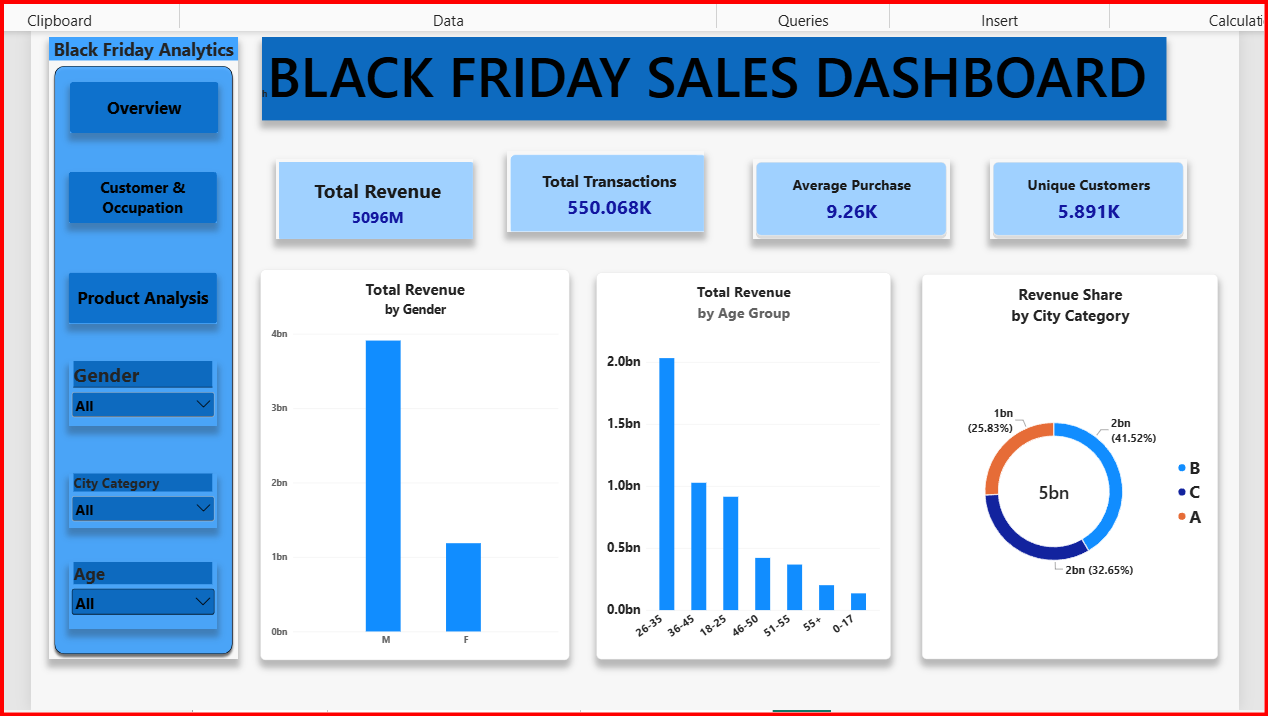

The page's visual inventory and layout, read from the dashboard file:
{"tool":"powerbi","page":{"name":"overview","canvas":[1920,1080],"ordinal":0},"visuals":[{"type":"shape","title":"Black Friday Analytics","box":[28.9,8.7,300.6,990.2],"z":0,"group":"g2"},{"type":"group","id":"g1","title":"Group 1","box":[390,190.7,1450.1,141.5],"z":0},{"type":"cardVisual","fields":{"Data":["Sum(Black_friday_sales_dataset.Purchase)"]},"box":[390,202.1,314.9,128.8],"z":0,"group":"g1"},{"type":"actionButton","box":[62,81.4,236.2,81.1],"z":1000,"group":"g2"},{"type":"cardVisual","fields":{"Data":["CountNonNull(Black_friday_sales_dataset.User_ID)"]},"box":[757.3,190.7,314.9,128.8],"z":1000,"group":"g1"},{"type":"clusteredColumnChart","title":"Total Revenue","fields":{"Category":["Black_friday_sales_dataset.Gender"],"Y":["Sum(Black_friday_sales_dataset.Purchase)"]},"box":[364,378.4,491.1,621.1],"z":1000},{"type":"cardVisual","fields":{"Data":["Avg(Black_friday_sales_dataset.Purchase)"]},"box":[1149,202.1,314.9,128.8],"z":2000,"group":"g1"},{"type":"actionButton","box":[60.7,384.2,236.2,81.1],"z":2000,"group":"g2"},{"type":"clusteredColumnChart","title":"Total Revenue","fields":{"Category":["Black_friday_sales_dataset.Age"],"Y":["Sum(Black_friday_sales_dataset.Purchase)"]},"box":[898.4,384.2,468,615.3],"z":2000},{"type":"cardVisual","fields":{"Data":["Count(Black_friday_sales_dataset.User_ID)"]},"box":[1525.8,202.1,314.9,128.8],"z":3000,"group":"g1"},{"type":"actionButton","box":[60.7,222.5,236.2,81.1],"z":3000,"group":"g2"},{"type":"donutChart","title":"Revenue Share","fields":{"Category":["Black_friday_sales_dataset.City_Category"],"Y":["Sum(Black_friday_sales_dataset.Purchase)"]},"box":[1418.4,387.1,470.9,612.4],"z":3000},{"type":"group","id":"g2","title":"Group 2","box":[28.9,8.7,300.6,990.2],"z":4000},{"type":"slicer","fields":{"Values":["Black_friday_sales_dataset.Gender"]},"box":[60.7,522.9,236.9,104],"z":4000,"group":"g2"},{"type":"textbox","box":[366.9,8.7,1438.6,132.9],"z":5000},{"type":"slicer","fields":{"Values":["Black_friday_sales_dataset.City_Category"]},"box":[60.7,702,236.9,86.7],"z":5000,"group":"g2"},{"type":"slicer","fields":{"Values":["Black_friday_sales_dataset.Age"]},"box":[60.7,843.5,236.9,106.9],"z":6000,"group":"g2"}]}

Visuals, with their boxes on the page's 1920x1080 design canvas (x1, y1, x2, y2). These are canvas units, not pixel positions in the 1268x716 screenshot, which may show the page scaled, cropped or inside an application window:
"Black Friday Analytics" shape: 29:9:330:999
"Group 1" group: 390:191:1840:332
cardVisual - Sum(Black_friday_sales_dataset.Purchase): 390:202:705:331
actionButton: 62:81:298:162
cardVisual - CountNonNull(Black_friday_sales_dataset.User_ID): 757:191:1072:320
"Total Revenue" clusteredColumnChart: 364:378:855:1000
cardVisual - Avg(Black_friday_sales_dataset.Purchase): 1149:202:1464:331
actionButton: 61:384:297:465
"Total Revenue" clusteredColumnChart: 898:384:1366:1000
cardVisual - Count(Black_friday_sales_dataset.User_ID): 1526:202:1841:331
actionButton: 61:222:297:304
"Revenue Share" donutChart: 1418:387:1889:1000
"Group 2" group: 29:9:330:999
slicer - Black_friday_sales_dataset.Gender: 61:523:298:627
textbox: 367:9:1806:142
slicer - Black_friday_sales_dataset.City_Category: 61:702:298:789
slicer - Black_friday_sales_dataset.Age: 61:844:298:950
